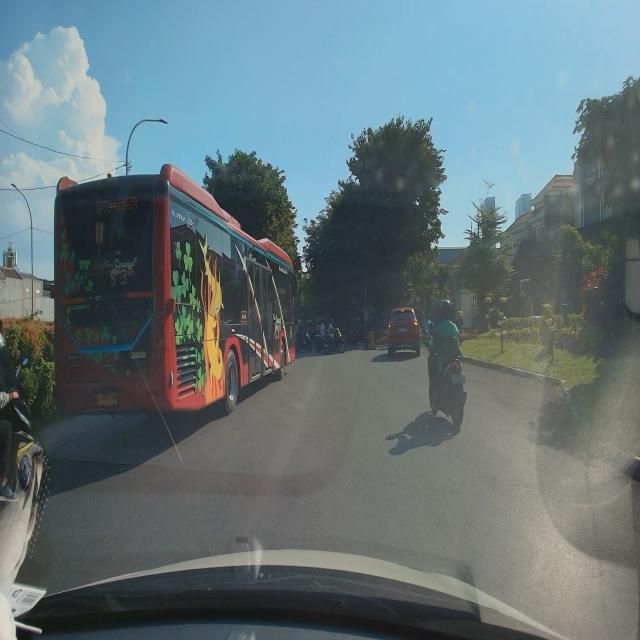bus: (53, 163, 297, 420)
car: (386, 306, 422, 359)
license-plate: (96, 392, 118, 406), (399, 327, 407, 332)
